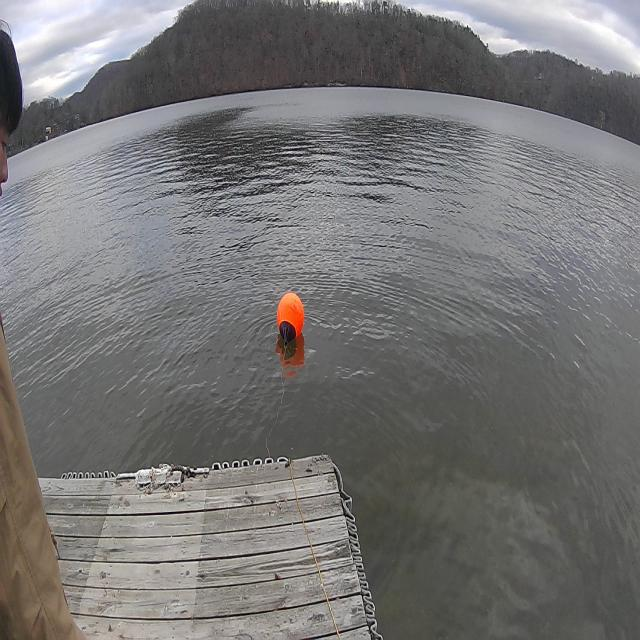Buoy: (273, 284, 310, 356)
